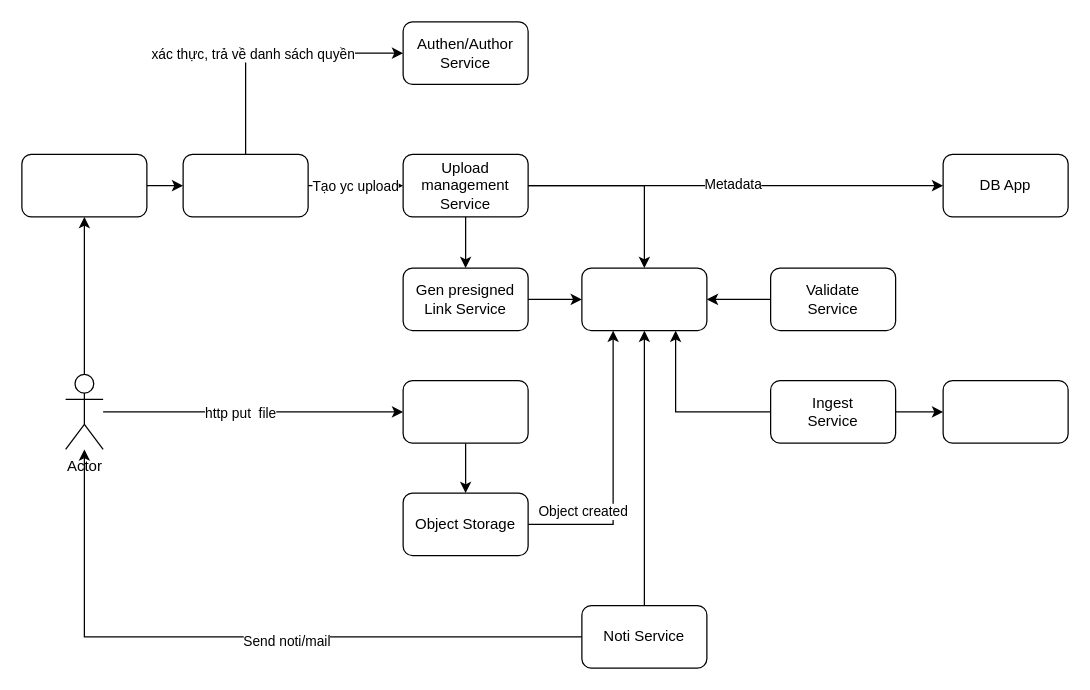
This 1090x690 diagram has some shape labels left out. The centre of each missing label's shape, as x and y in pixels:
"API GW" goes at (x=245, y=185).
"EDP Storage" goes at (x=1005, y=411).
"Link upload to Storage" goes at (x=465, y=411).
"Message Queue" goes at (x=644, y=299).
"Web App" goes at (x=84, y=185).
